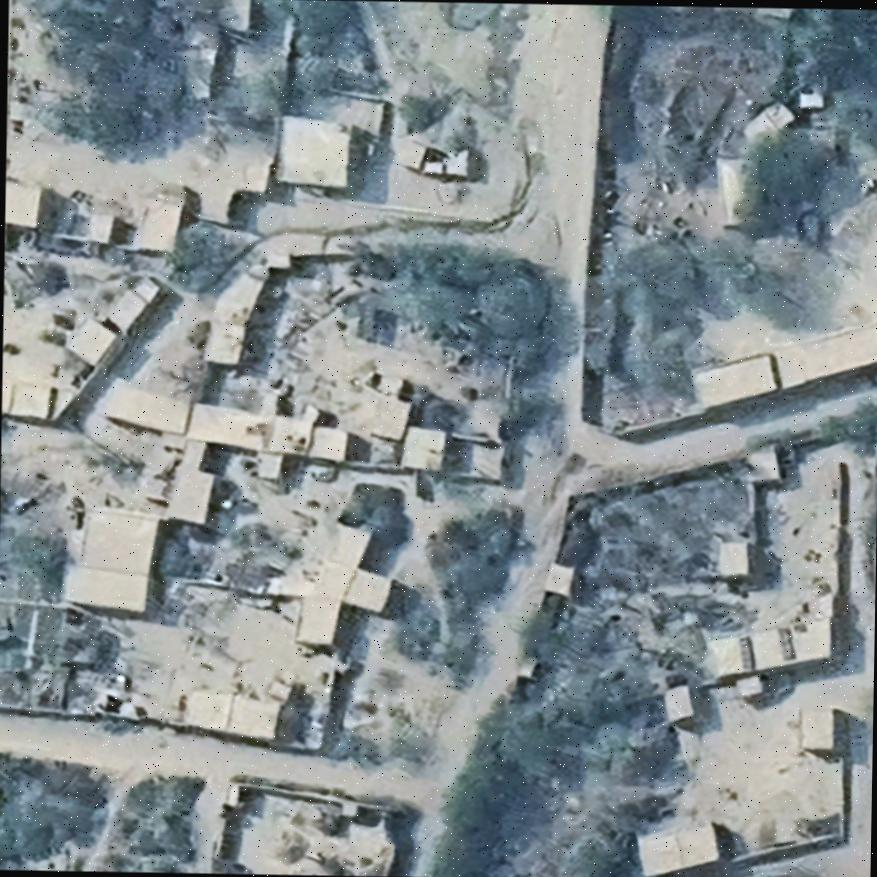Solarpanel: (775, 625, 796, 661), (737, 635, 753, 672)
